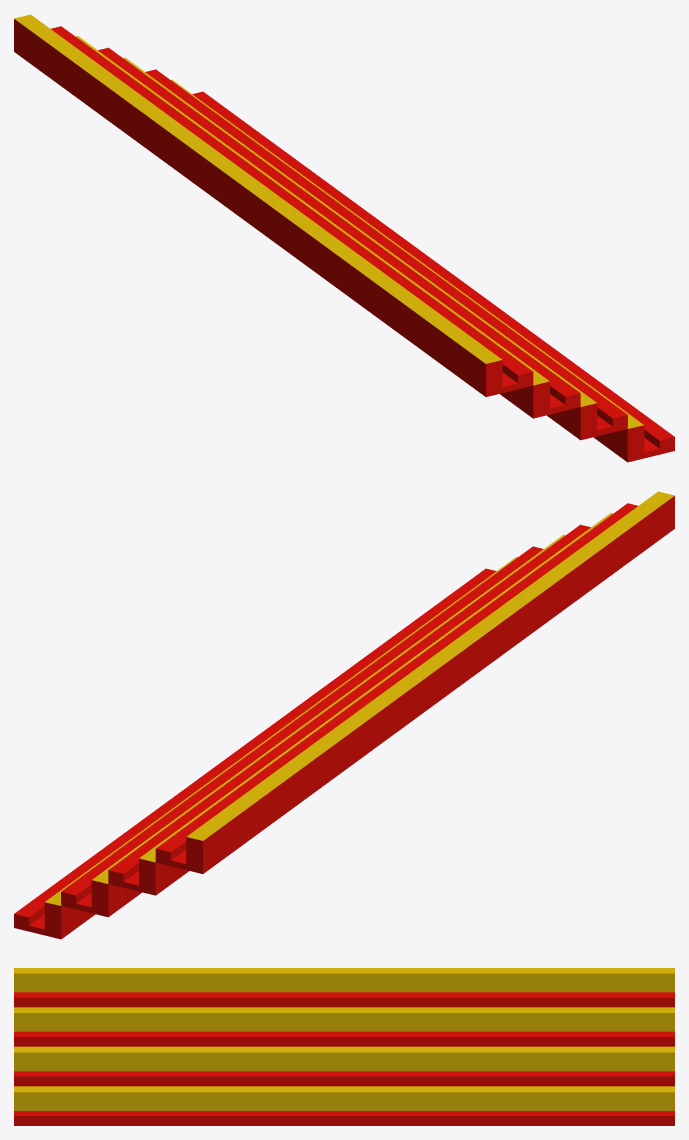
Rendered from bleachers.fbx.
3 views of the same model, one above another, from view 1: azimuth 30°, elevation 25°; view 2: azimuth 150°, elevation 25°; view 3: azimuth 270°, elevation 25° (orthographic). The views are drawn at different scales.
Visible parts, largest first — view 1: Cube; view 2: Cube; view 3: Cube.
Boxes of the visible parts, x1,y1,x2,y2 form: Cube: (14,14,674,462); Cube: (14,491,674,939); Cube: (14,968,674,1125).
Bounding box in the file's own units: 619 × 416 × 2674.
